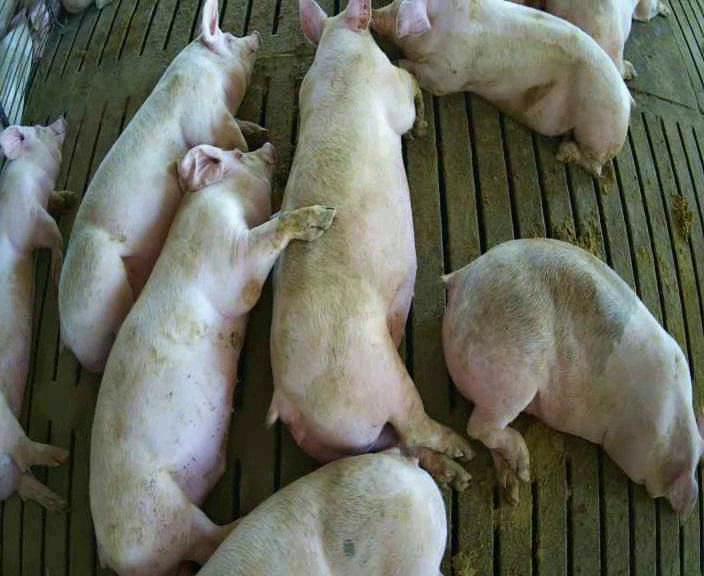pig: (90, 143, 334, 573), (269, 2, 471, 489), (59, 2, 266, 370), (443, 239, 703, 515), (372, 2, 630, 174), (199, 448, 446, 574), (0, 119, 77, 508), (544, 1, 669, 79)
